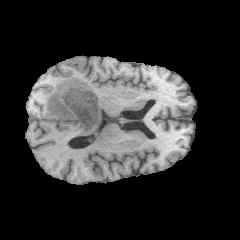glioma: (45, 77, 103, 136)
